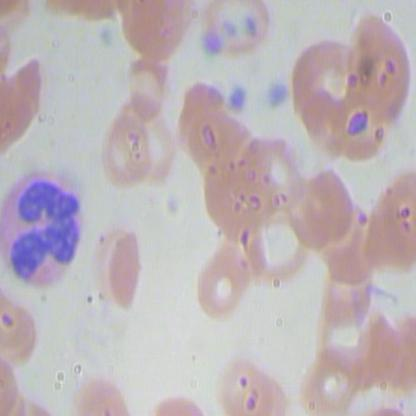Platelets: (263, 75, 291, 114), (226, 79, 253, 119), (196, 20, 223, 60)
RBC: (341, 6, 415, 128), (289, 30, 363, 138), (80, 216, 150, 321), (194, 151, 270, 240), (186, 107, 257, 198), (193, 1, 278, 70), (189, 234, 249, 327), (307, 293, 371, 380), (244, 207, 307, 295), (325, 206, 388, 294), (297, 166, 360, 253), (315, 244, 378, 331), (298, 335, 361, 415), (97, 98, 149, 190), (129, 101, 181, 193), (1, 55, 44, 166), (233, 348, 302, 415), (211, 348, 279, 415), (1, 279, 49, 368), (372, 309, 415, 394), (127, 50, 172, 125)
WBC: (1, 166, 93, 289)
